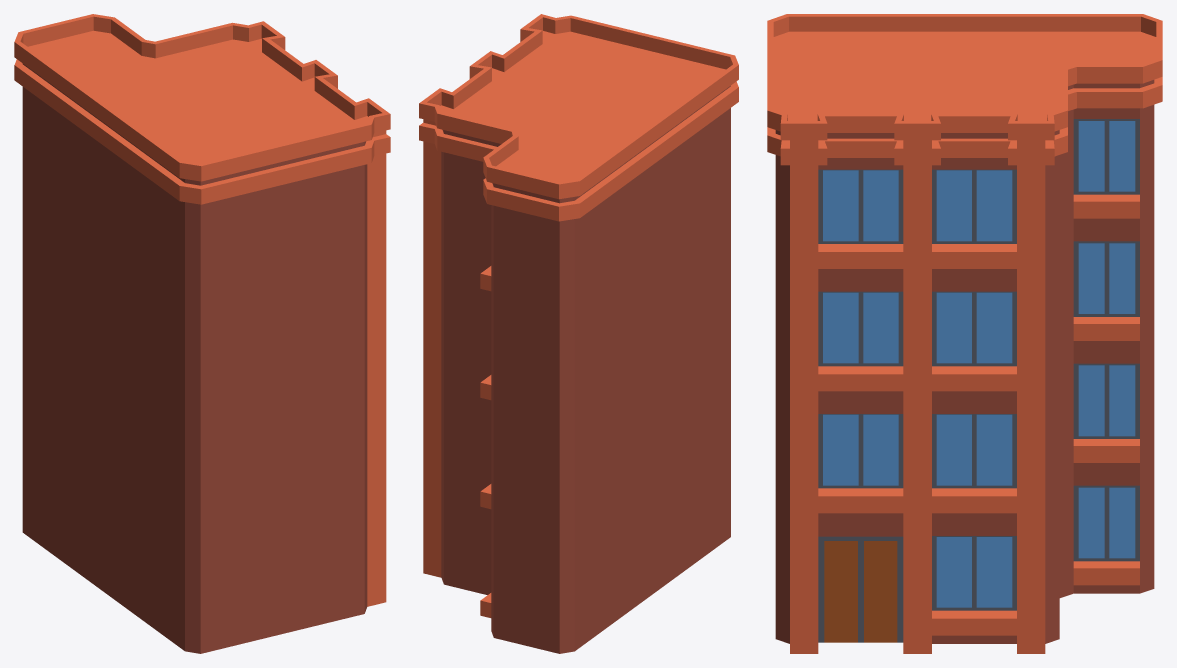
3 views of the same model, side by side, from view 1: azimuth 30°, elevation 25°; view 2: azimuth 150°, elevation 25°; view 3: azimuth 270°, elevation 25° (orthographic). The views are drawn at different scales.
Parts seen in each view (by area): view 1: Predio 9; view 2: Predio 9; view 3: Predio 9.
Part boxes in pixels (x1,y1,x2,y2): Predio 9: [14, 14, 390, 653]; Predio 9: [419, 14, 738, 653]; Predio 9: [767, 14, 1162, 653].
Bounding box in the file's own units: 4243 × 9570 × 6461.
